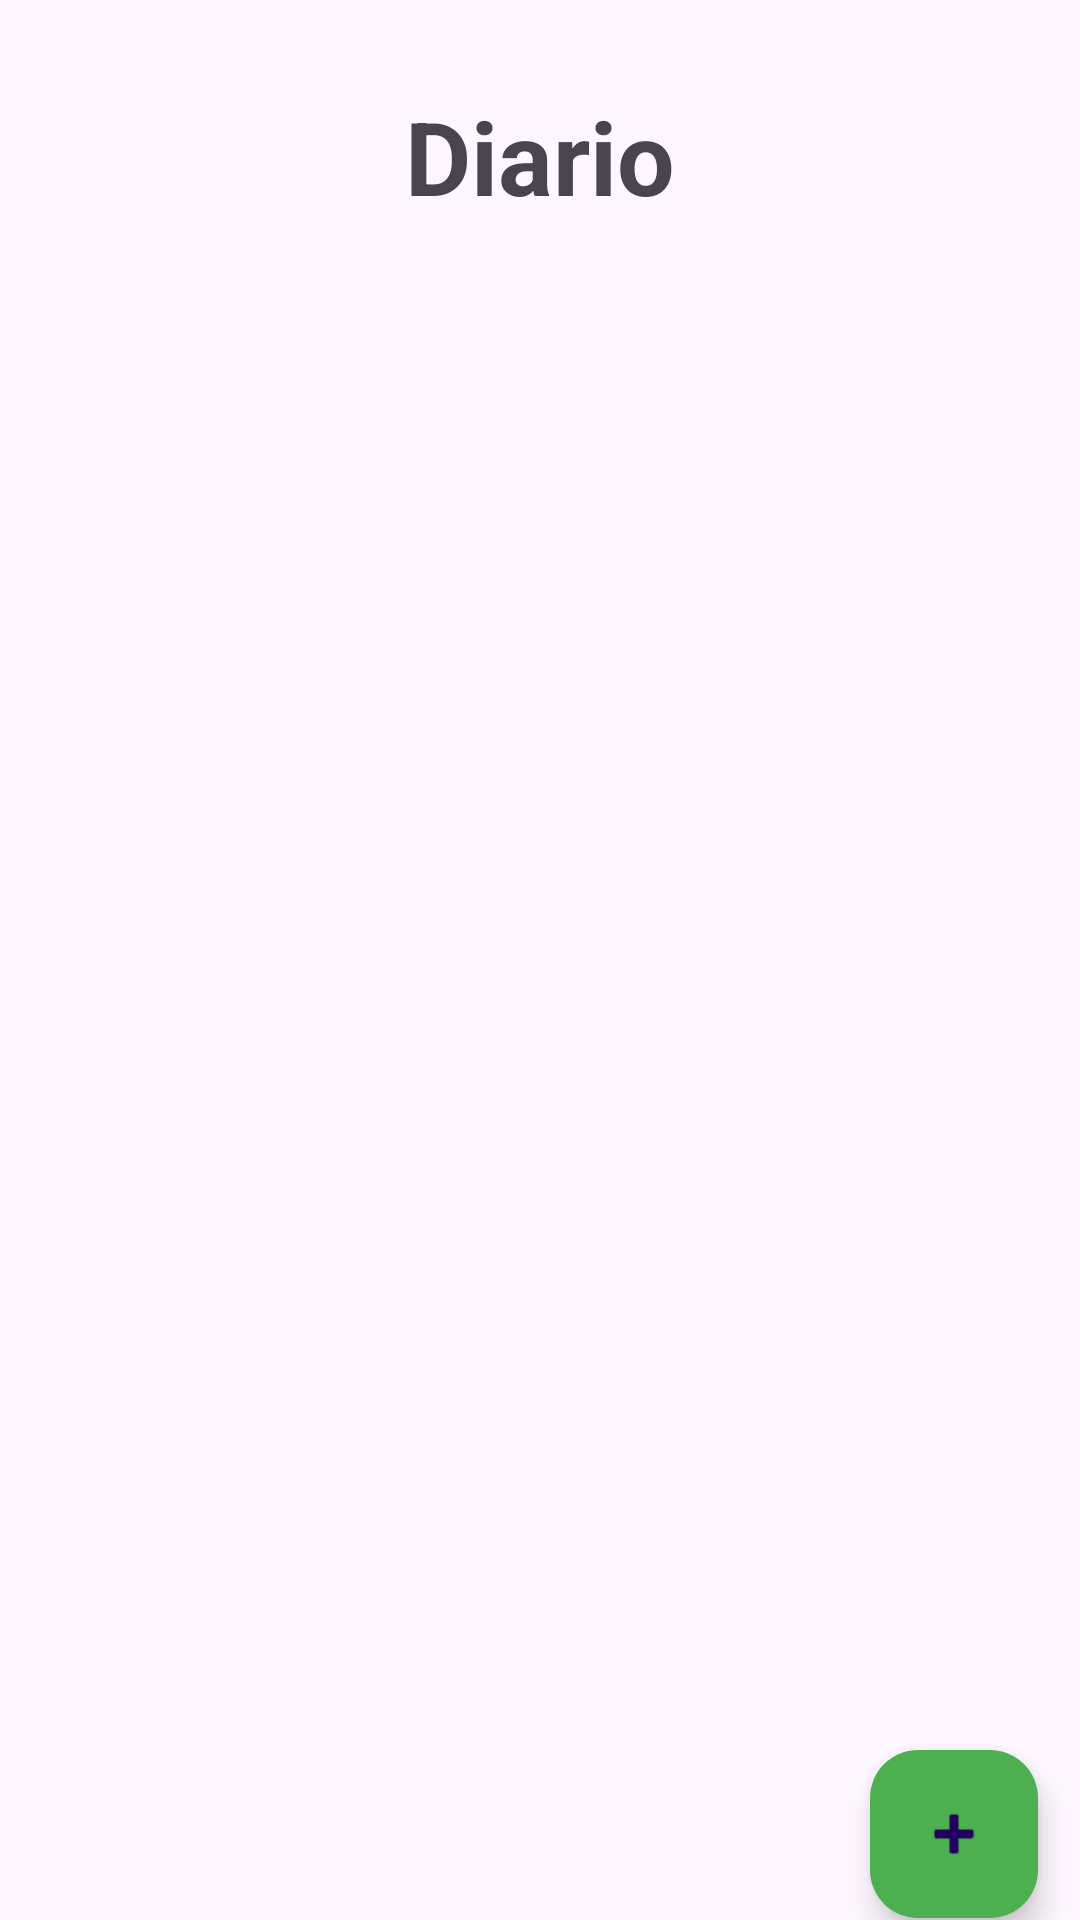

Where icons sit on this 1080px x 1920px app screen, as (x1=x1, y1=y1, x2=x2, y2=y2):
add: (x1=870, y1=1750, x2=1038, y2=1918)
